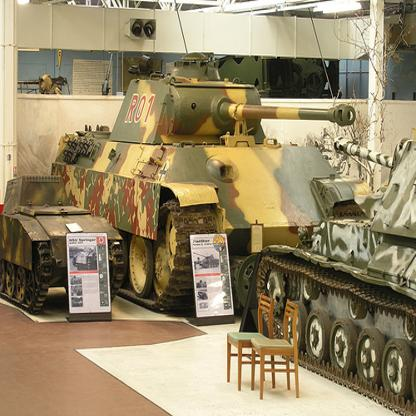Tank: (53, 64, 358, 340)
